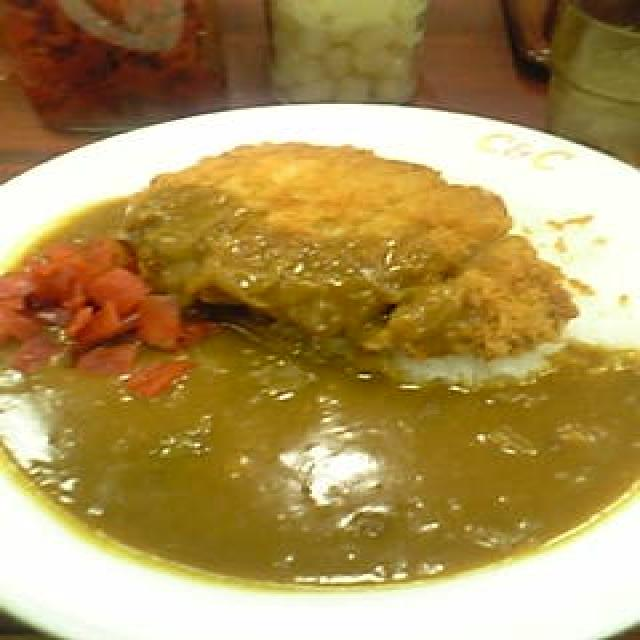猪肉菜式: (0, 80, 640, 640)
